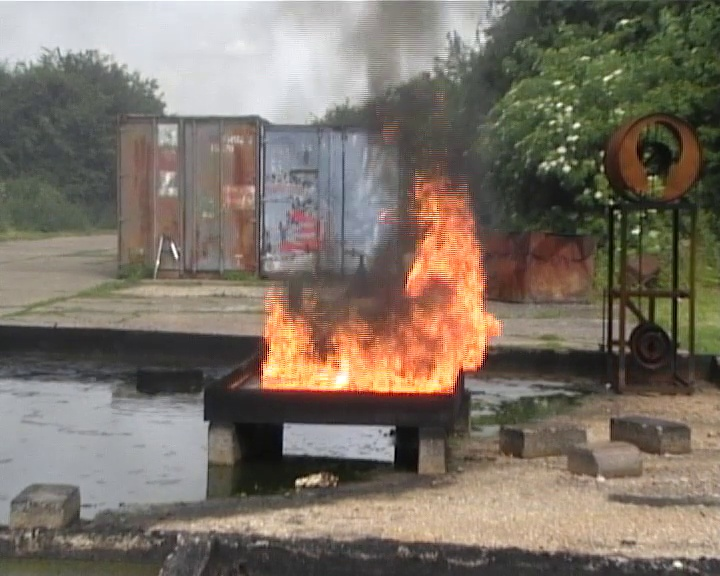fire: (260, 186, 488, 391)
